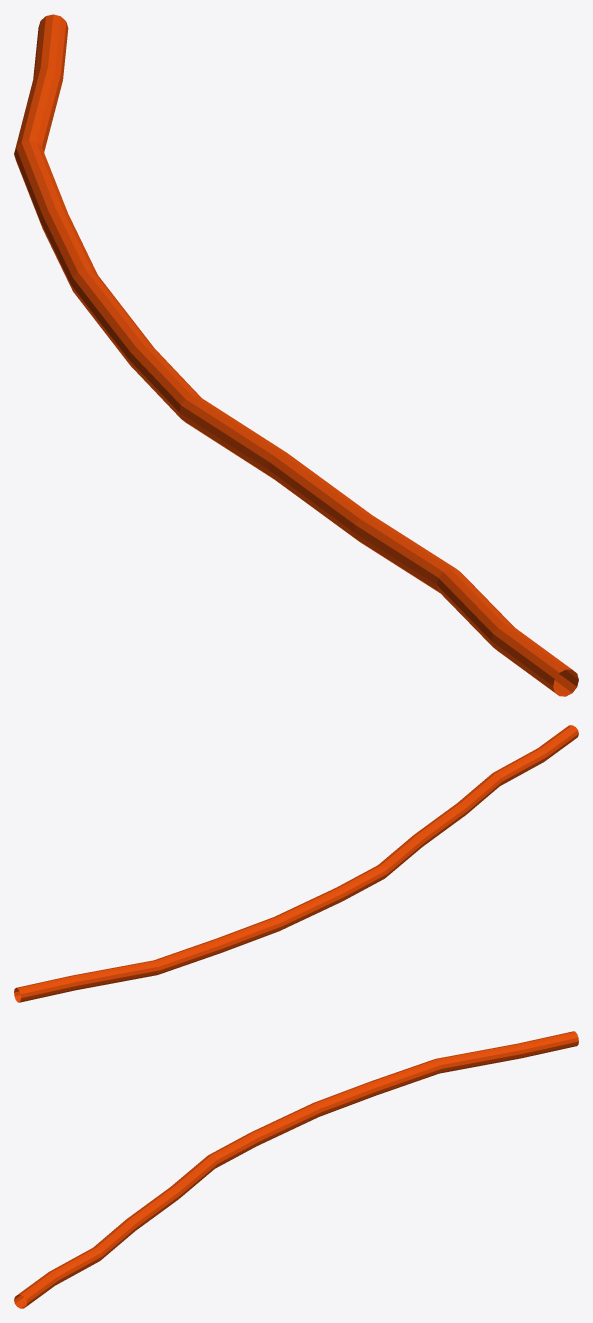
Rendered from Cable7.fbx.
3 renders of one model, top to bottom at view 1: azimuth 30°, elevation 25°; view 2: azimuth 150°, elevation 25°; view 3: azimuth 330°, elevation 25°, orthographic. The views are drawn at different scales.
Visible parts, largest first — view 1: Vert.006; view 2: Vert.006; view 3: Vert.006.
Part boxes in pixels (box(x1,y1,x2,y2)): Vert.006: box(14, 14, 578, 696); Vert.006: box(14, 725, 578, 1002); Vert.006: box(14, 1031, 578, 1308).
Bounding box in the file's own units: 23.99 × 2 × 107.
